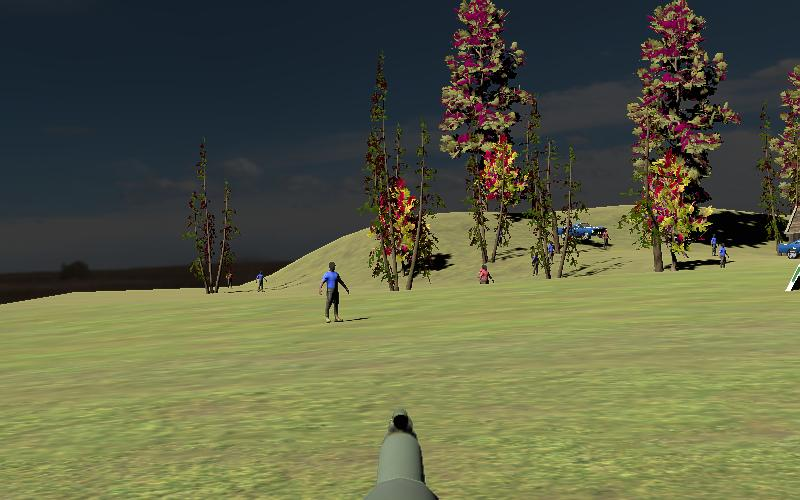Human: (320, 261, 349, 323), (255, 269, 268, 294)
car: (558, 220, 608, 243), (776, 229, 800, 261)
